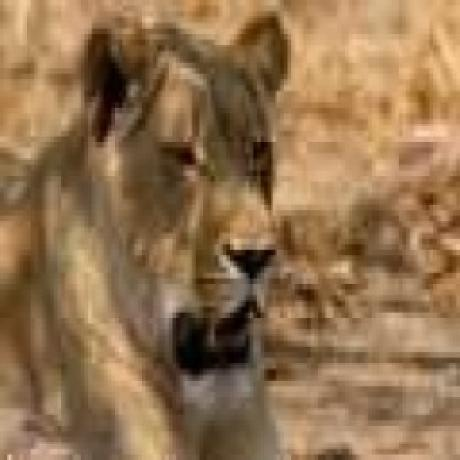Lion: (0, 4, 291, 458)
